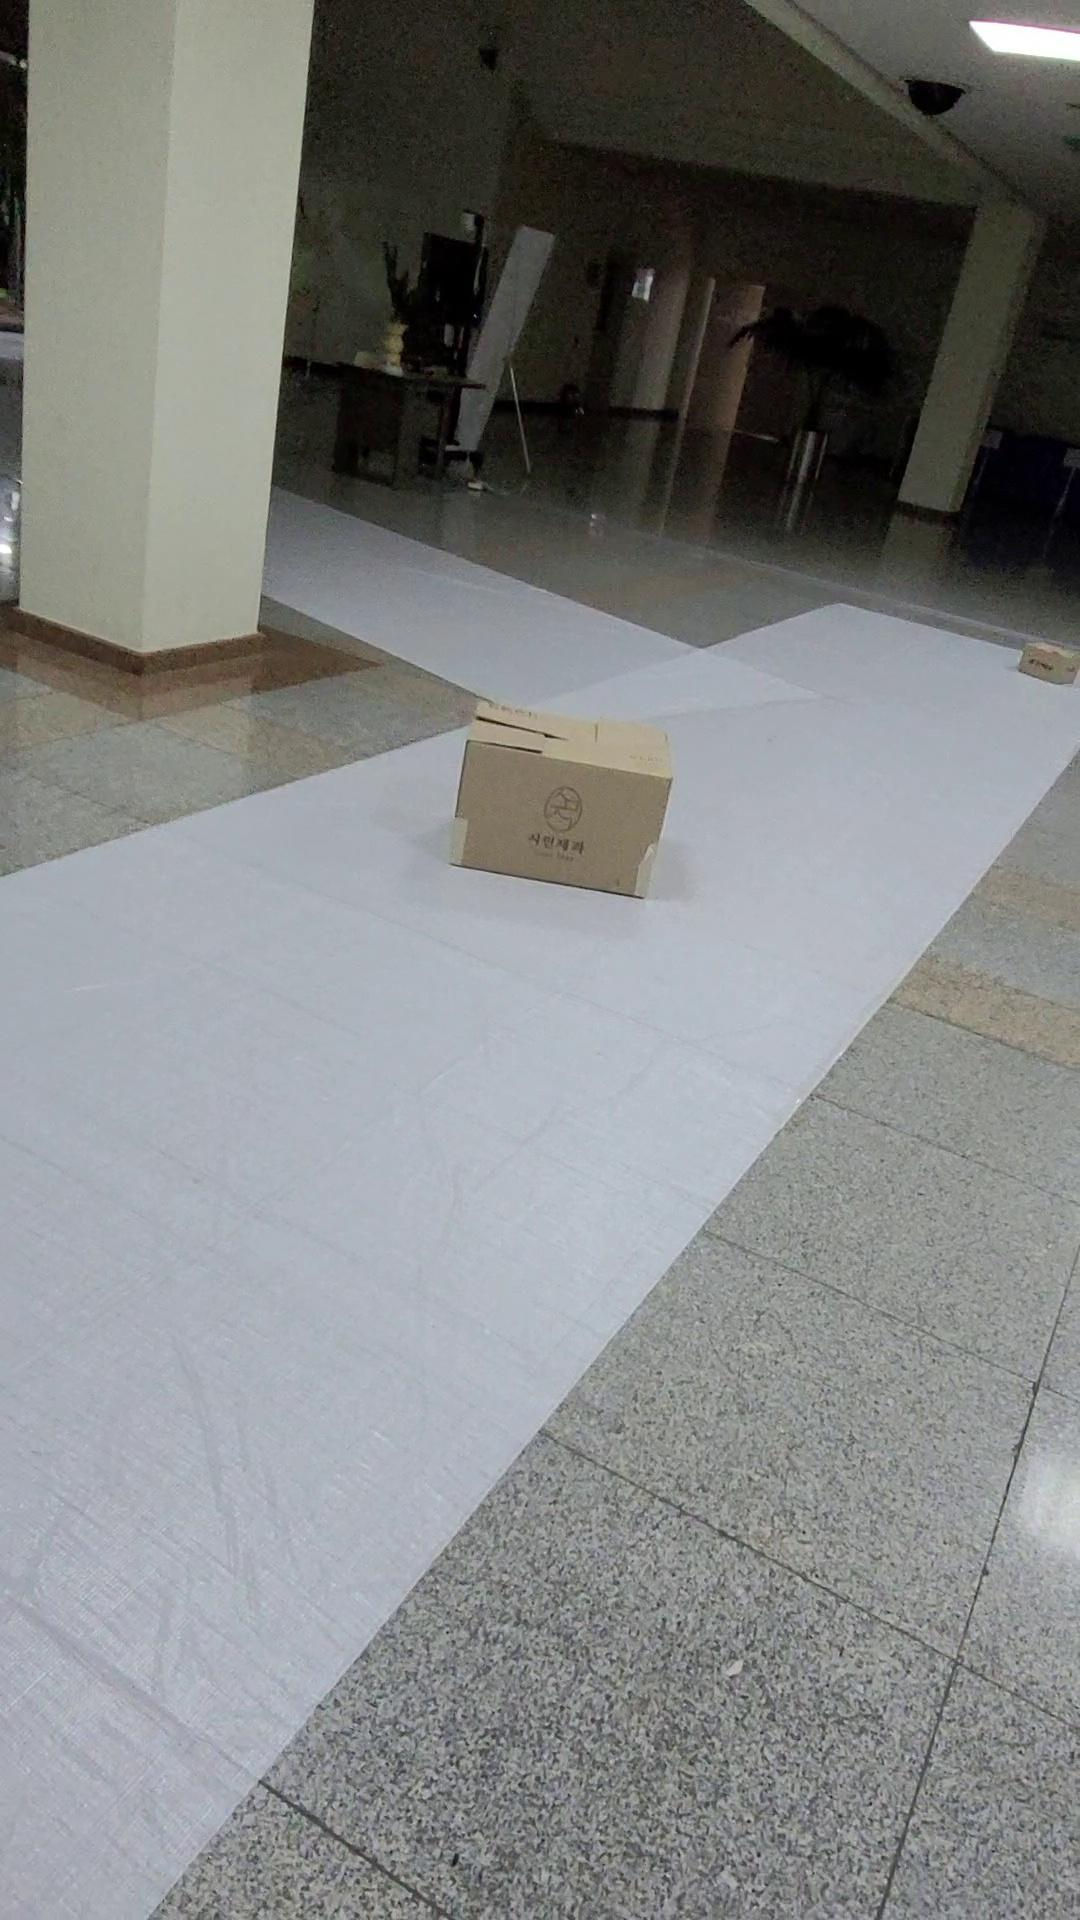Box: (423, 658, 698, 920), (976, 608, 1080, 717)
